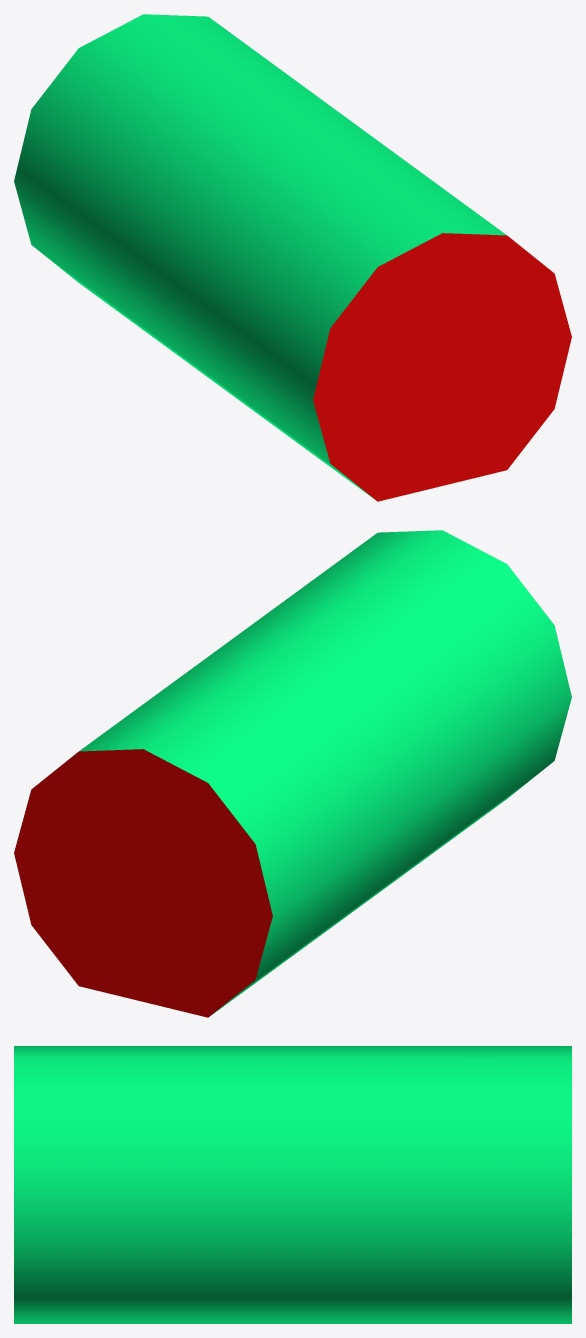
File: Environment_Box.fbx
3 views of the same model, one above another, from view 1: azimuth 30°, elevation 25°; view 2: azimuth 150°, elevation 25°; view 3: azimuth 270°, elevation 25° (orthographic). The views are drawn at different scales.
Parts seen in each view (by area): view 1: Environment_Box; view 2: Environment_Box; view 3: Environment_Box.
Part boxes in pixels (x1=…): Environment_Box: x1=14, y1=14, x2=571, y2=501; Environment_Box: x1=14, y1=530, x2=571, y2=1017; Environment_Box: x1=14, y1=1046, x2=571, y2=1323.
Bounding box in the file's own units: 10000 × 9330 × 20000.
